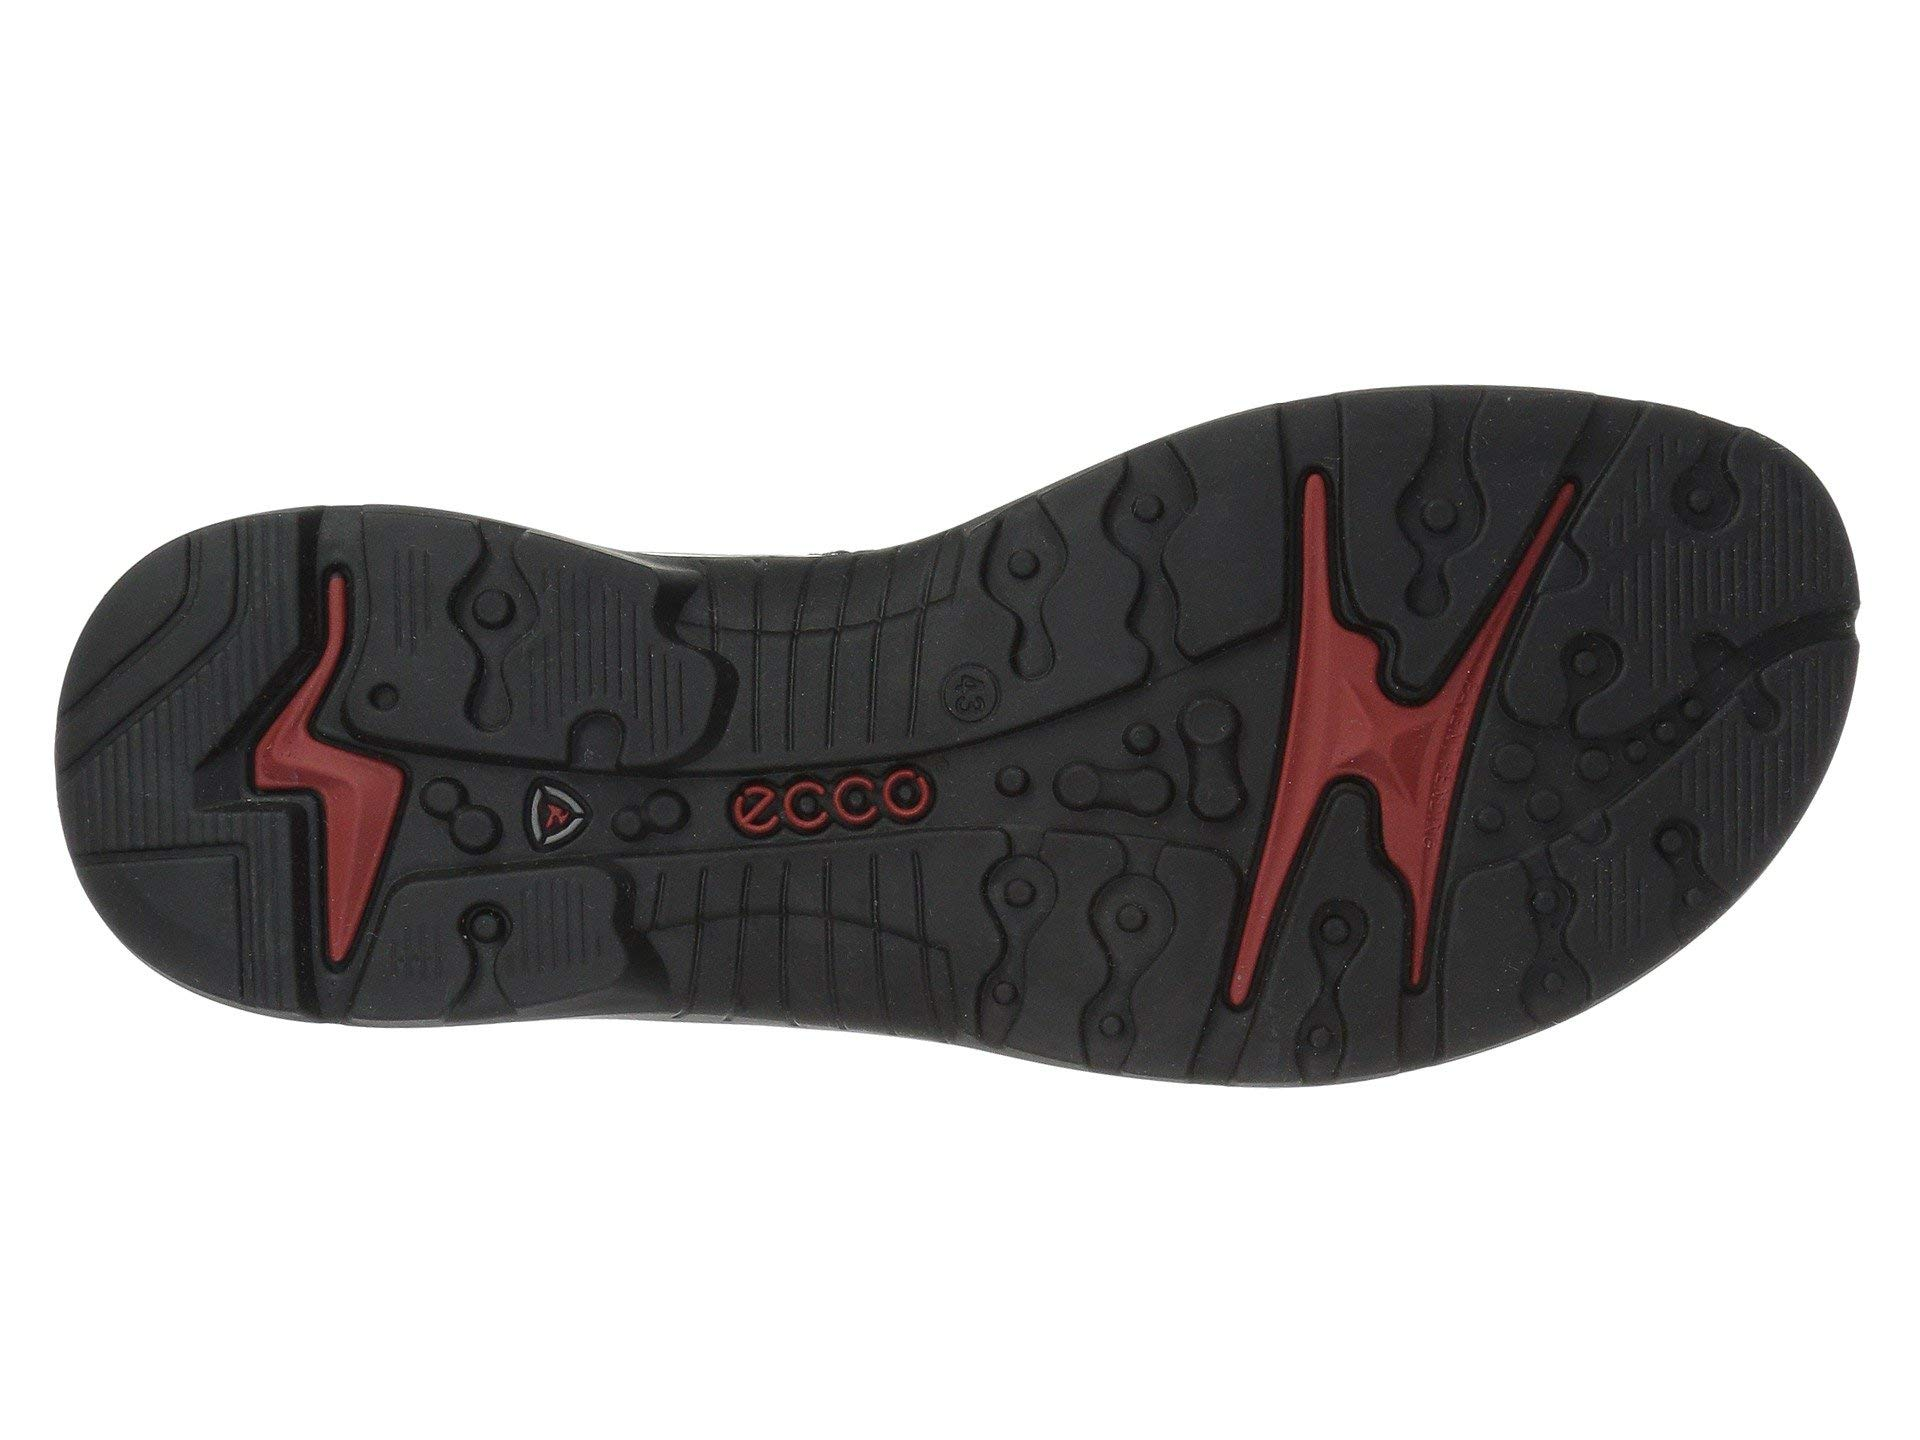circle: (618, 607, 1049, 989)
line: (618, 607, 1049, 989)
quad: (618, 607, 1049, 989)
text: (618, 607, 1049, 989)
